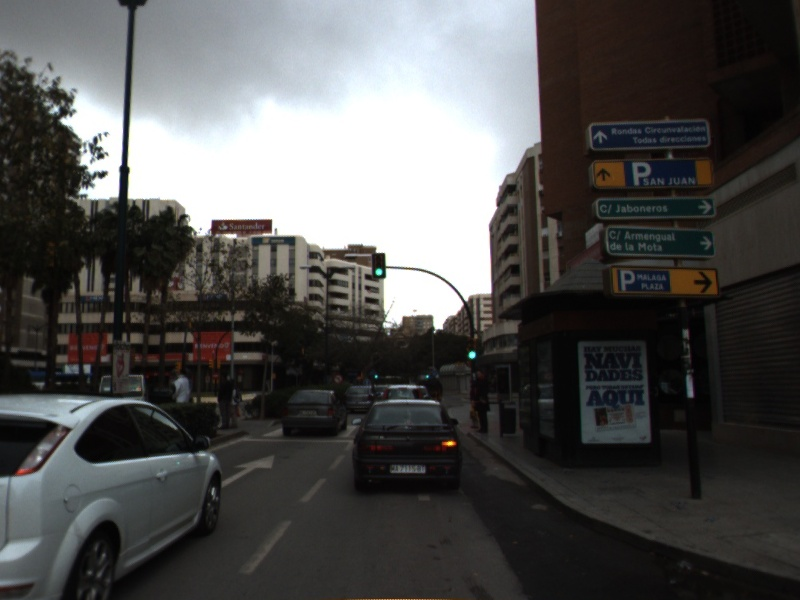STRAIGHT: (219, 453, 277, 488)
